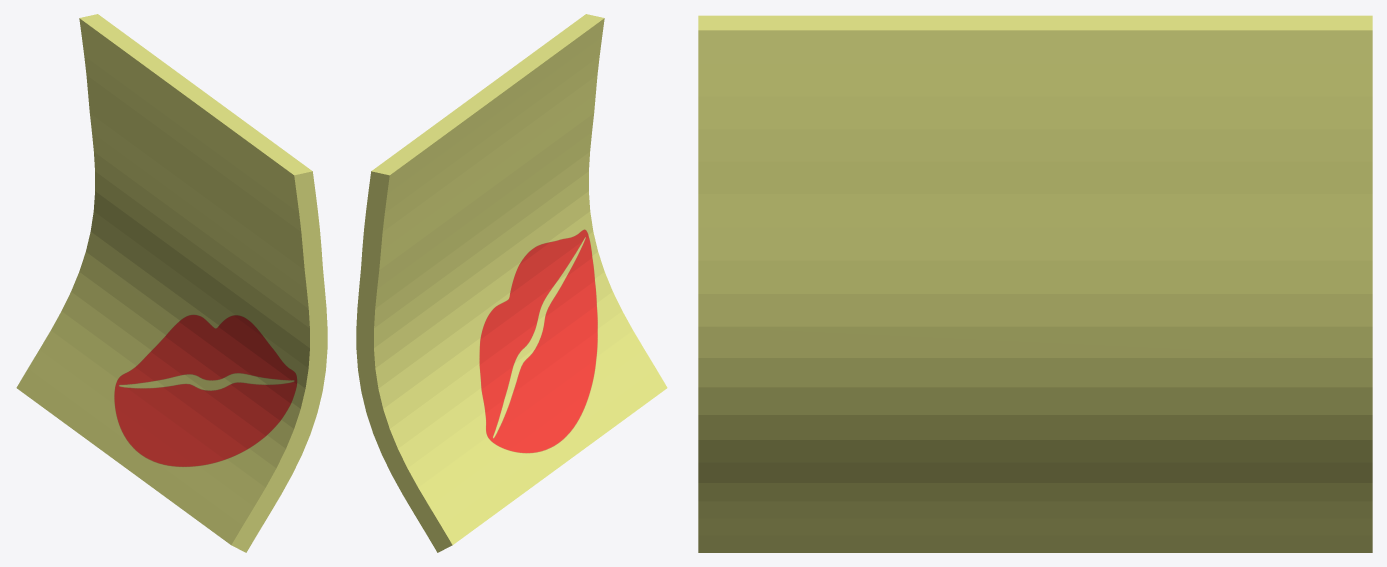
File: lips2.glb
The picture shows the model from 3 angles, left to right: view 1: azimuth 30°, elevation 25°; view 2: azimuth 150°, elevation 25°; view 3: azimuth 270°, elevation 25°; orthographic projection. The views are drawn at different scales.
Size of the model in its own units: 0.0498 by 0.1772 by 0.1886.
2 materials, 1 textured.
